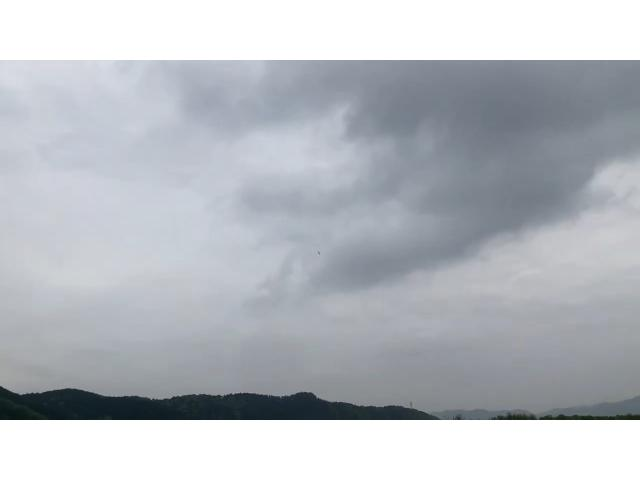Anti-Drone: (306, 245, 330, 259)
